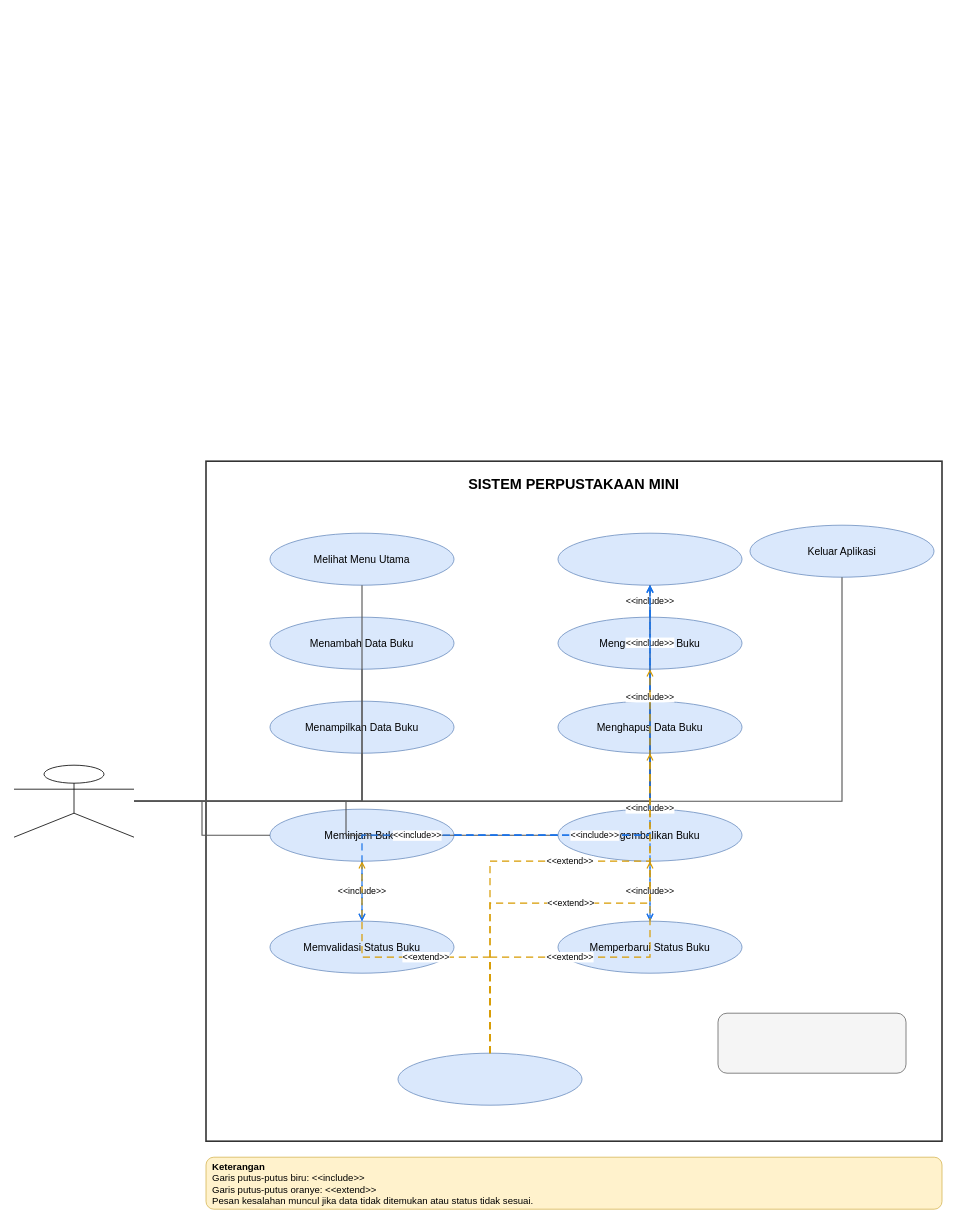
Image size: 957x1223. Some labels were removed from this diagram. Each missing label, with the centre of its shape:
Menampilkan Pesan Kesalahan: (x=489, y=1078)
Mencari Buku: (x=649, y=558)
Petugas Perpustakaan: (x=73, y=800)
Status buku: Tersedia / Dipinjam Buku yang sedang dipinjam tidak dapat dihapus.: (x=811, y=1042)
